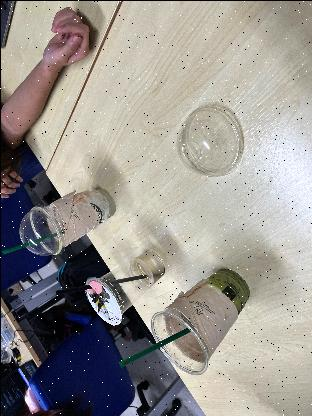Others: (151, 264, 249, 374), (30, 185, 114, 255), (172, 101, 244, 177), (86, 250, 156, 326), (117, 325, 190, 367), (52, 270, 162, 294), (18, 206, 64, 256), (1, 228, 65, 253)
